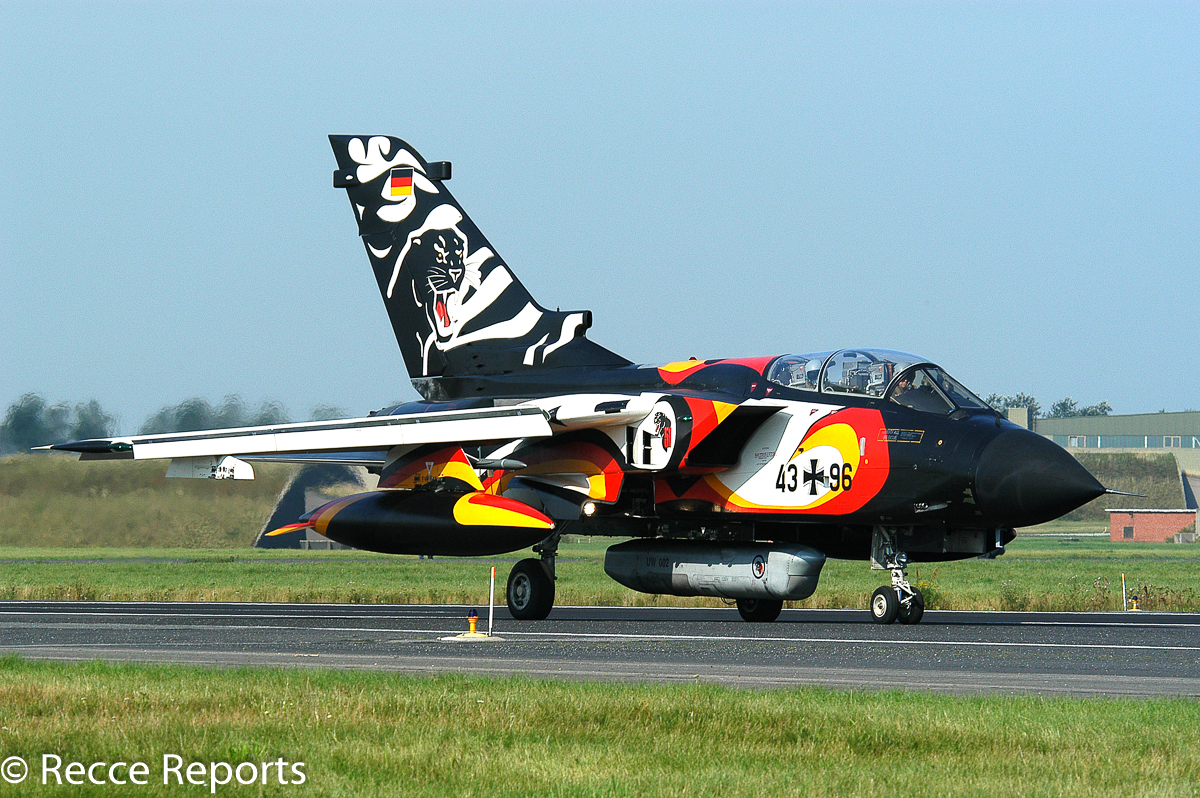Tornado: (29, 133, 1149, 625)
